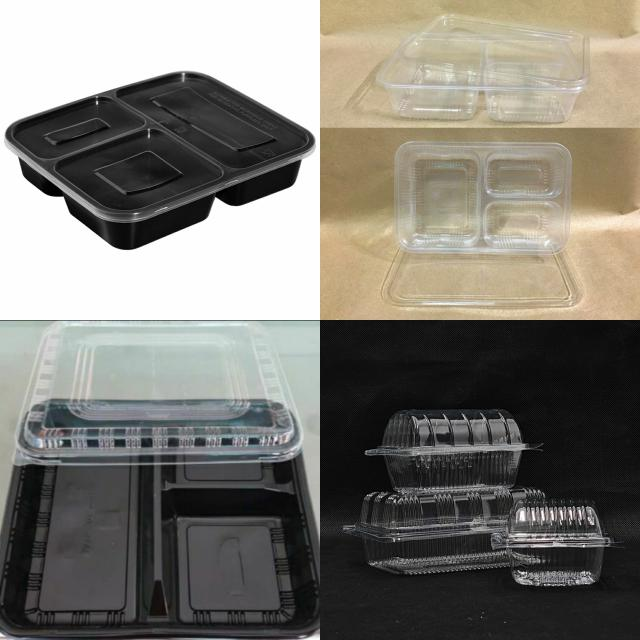Single-Use-Plastic: (0, 322, 319, 640), (5, 72, 315, 249), (344, 410, 544, 574), (378, 14, 590, 122), (395, 142, 571, 254), (365, 410, 538, 491), (382, 249, 580, 307), (491, 500, 619, 586)
